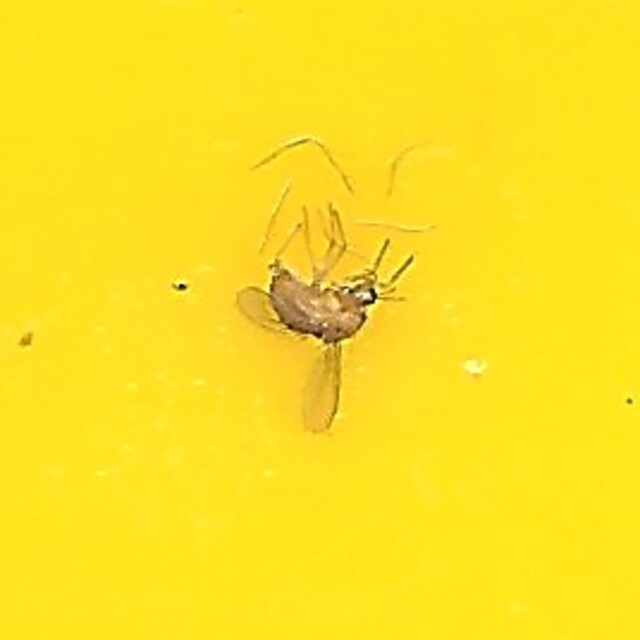Nematocera: (239, 217, 401, 423)
